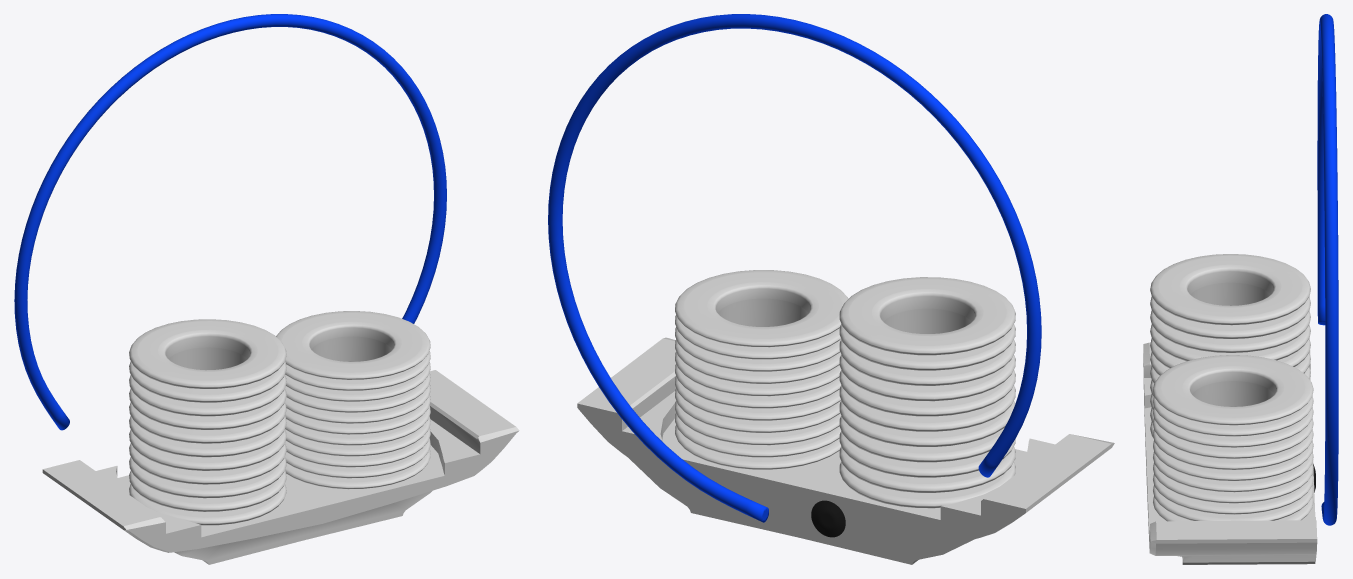
The model's file is module-fluidique-web-transformed.glb.
The picture shows the model from 3 angles, left to right: view 1: azimuth 30°, elevation 25°; view 2: azimuth 150°, elevation 25°; view 3: azimuth 270°, elevation 25°; orthographic projection. The views are drawn at different scales.
Parts seen in each view (by area): view 1: BASE.001, liquide.001; view 2: BASE.001, liquide.001, cercle-tuyaux2.001; view 3: BASE.001, liquide.001.
Boxes of the visible parts, left/top/right/bottom form: BASE.001: left=42, top=311, right=519, bottom=564; liquide.001: left=14, top=14, right=446, bottom=430; BASE.001: left=577, top=270, right=1114, bottom=564; liquide.001: left=548, top=14, right=1041, bottom=522; cercle-tuyaux2.001: left=811, top=500, right=845, bottom=537; BASE.001: left=1143, top=254, right=1317, bottom=564; liquide.001: left=1317, top=14, right=1338, bottom=525.
Size of what is drawn, in the model's own units: 0.0402 by 0.0413 by 0.0154.
